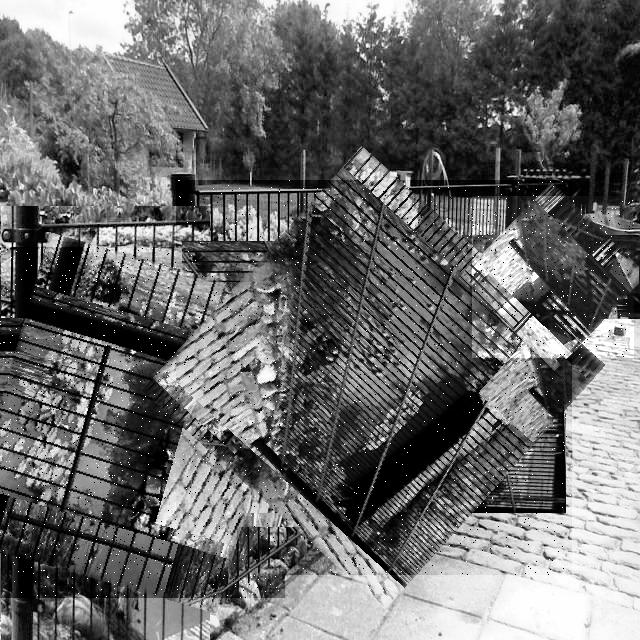fences: (176, 180, 572, 575), (0, 247, 285, 598), (472, 196, 634, 358)
